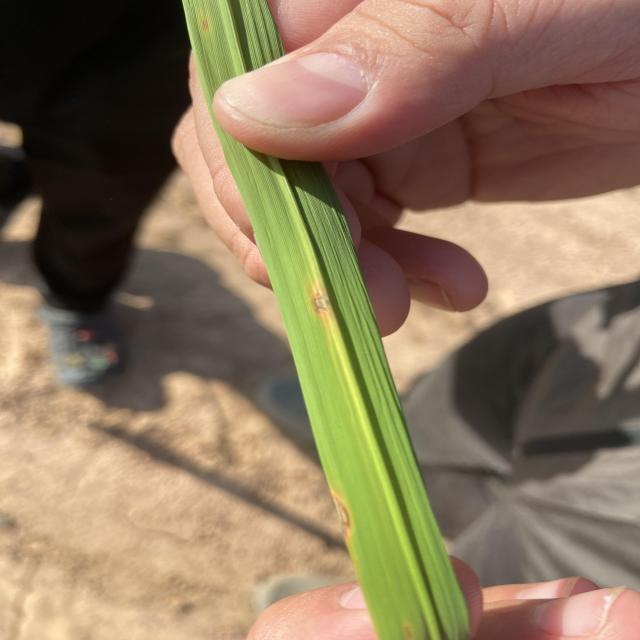Dao on: (333, 492, 352, 540), (315, 290, 331, 315)
